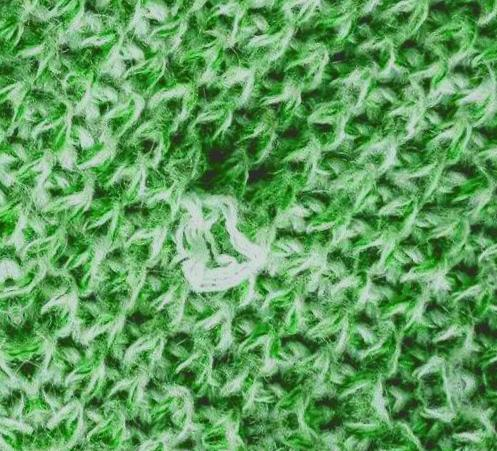snag: (156, 170, 281, 300)
